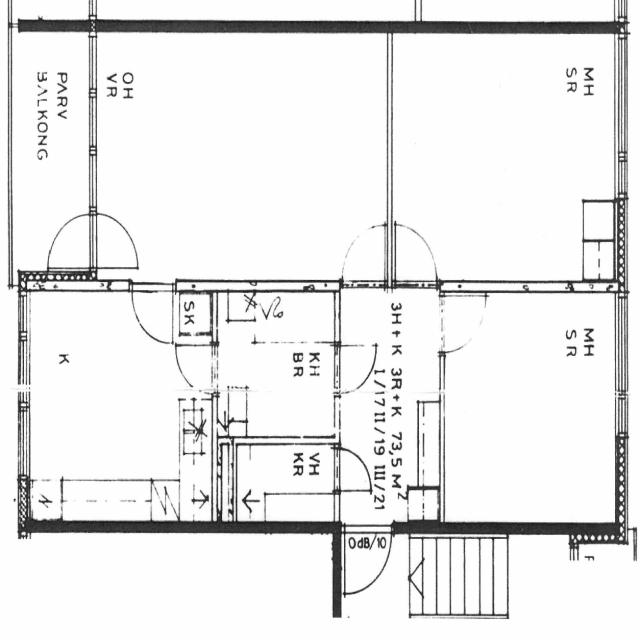door: (344, 521, 391, 596), (342, 224, 385, 291), (394, 225, 437, 291), (440, 295, 488, 352), (89, 214, 138, 268), (48, 214, 97, 268), (132, 281, 173, 344), (175, 346, 217, 394), (334, 346, 376, 393), (334, 450, 370, 490)
